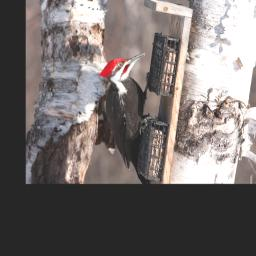Woodpecker: (96, 52, 156, 169)
